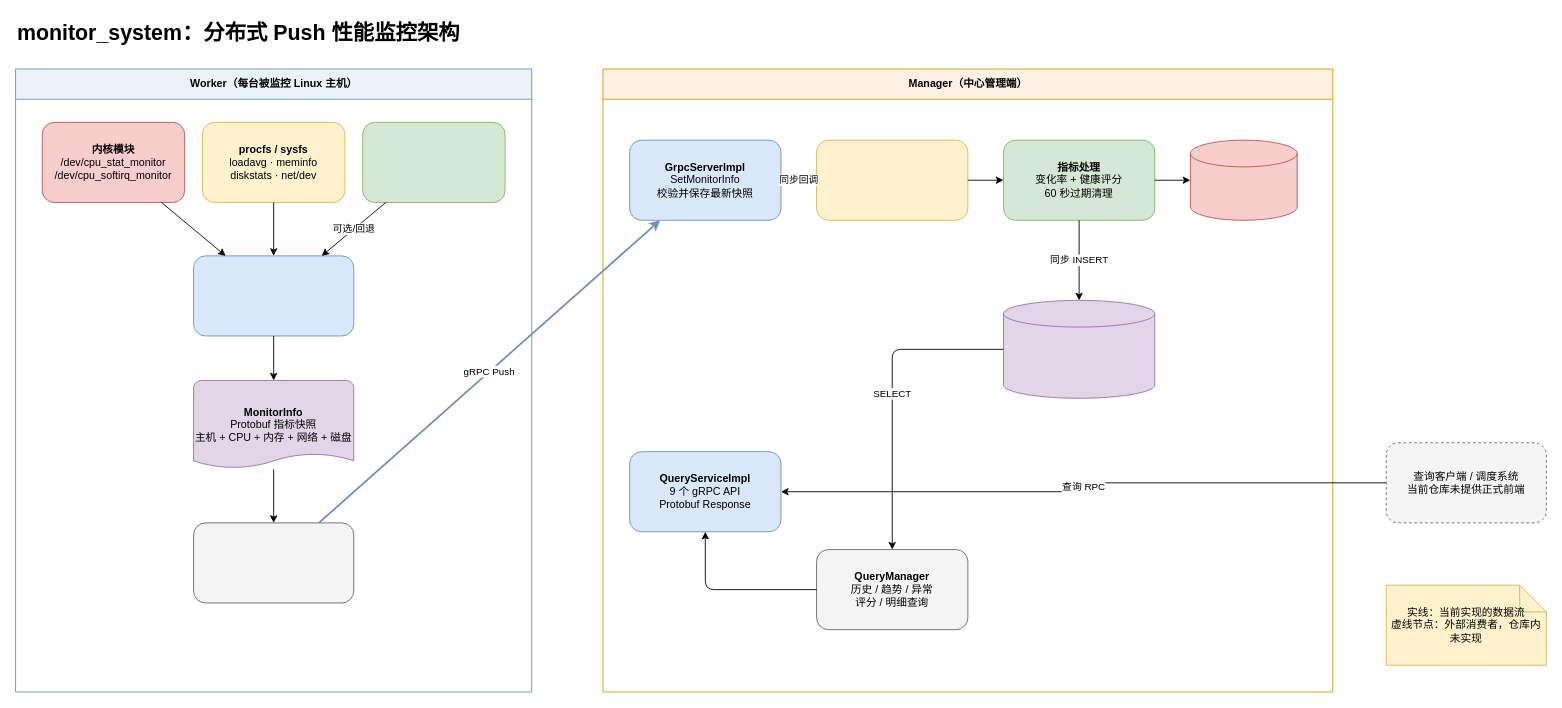
This 1562x708 diagram has some shape labels left out. The centre of each missing label's shape, as x and y in pixels:
eBPF TC ingress / egress BPF Map 计数器: point 433,161
HostManager hostname_ip 标识 在线状态与最新数据: point 892,179
MetricCollector 统一调用 MonitorInter::UpdateOnce 计算两次采样差值: point 273,295
MonitorPusher 独立线程，每 N 秒 Push gRPC Stub: point 273,562
MySQL monitor_db 性能汇总 + 4 类明细 历史时序数据: point 1079,348
最新主机状态 unordered_map: point 1243,179
